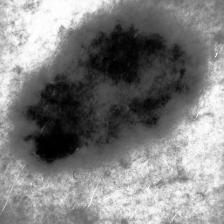Benign Marking or Mole: (14, 10, 204, 167)
